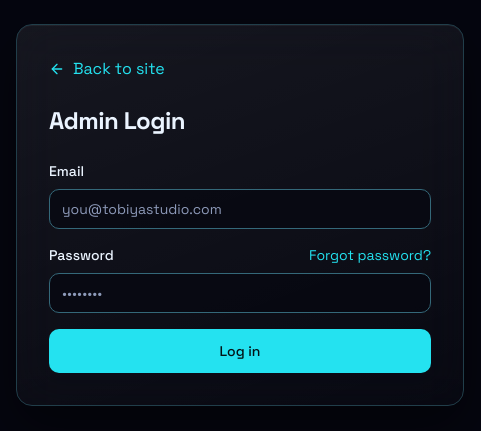
admin authentication › offers password recovery but no public signup
Click the button "Forgot password?". click: (370, 255)
box: [309,245,431,265]
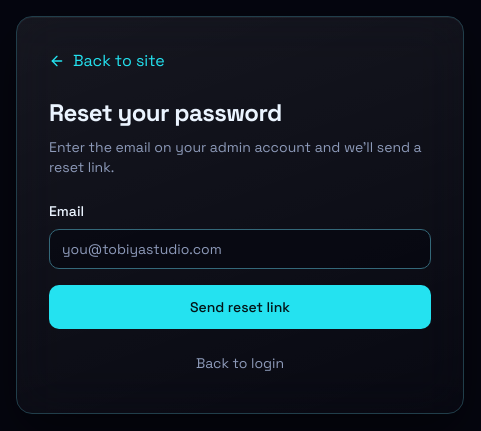
Now the heading "Reset your password" is shown, box [49,97,282,128]
